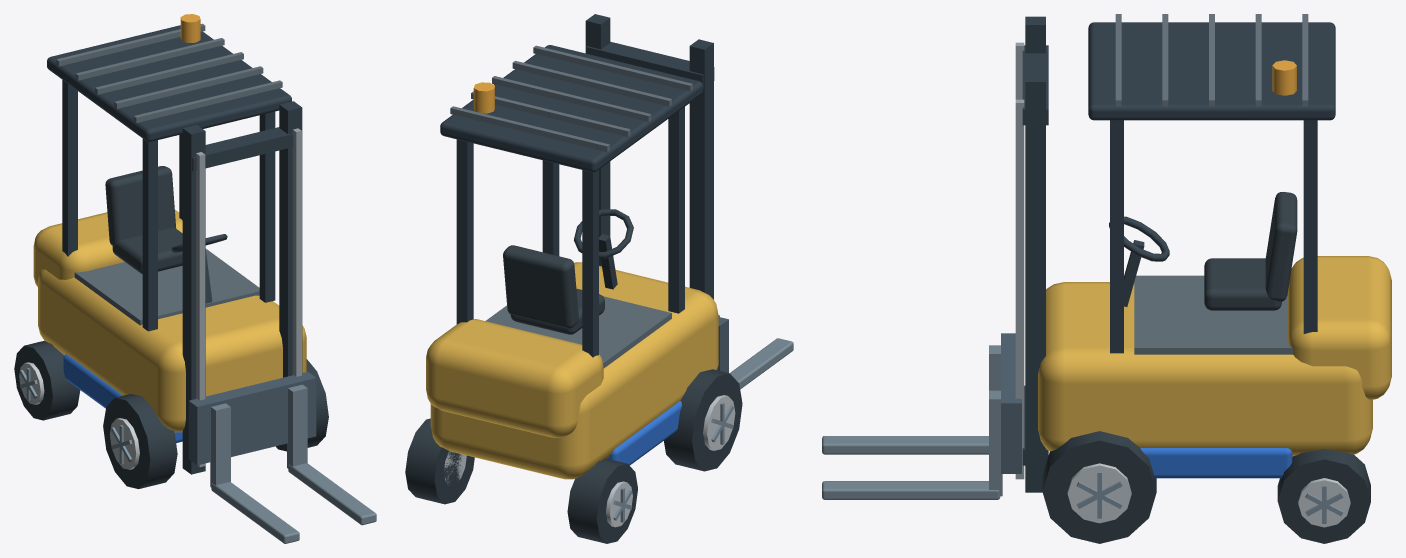
File: forklift-0-blue.glb
3 renders of one model, left to right at view 1: azimuth 30°, elevation 25°; view 2: azimuth 150°, elevation 25°; view 3: azimuth 270°, elevation 25°, orthographic. The views are drawn at different scales.
Visible parts, largest first — view 1: static-8--25, static-8--23, static-2--6, forklift-0, static-2--5, fork-carriage, static-8--19, wheel-front-left, static-2--3, wheel-rear-left, seat, wheel-front-right (+1 smaller); view 2: static-8--25, static-8--23, forklift-0, static-2--6, static-8--19, wheel-front-left, wheel-rear-left, wheel-rear-right, static-8--24, static-2--5, seat, fork-carriage; view 3: static-8--25, static-8--23, forklift-0, static-2--6, wheel-front-right, static-2--5, wheel-rear-right, static-2--3, seat, static-8--19, fork-carriage, static-8--24 (+1 smaller).
Part boxes in pixels (x1,y1,x2,y2): static-8--25: [33, 210, 306, 432]; static-8--23: [47, 25, 291, 331]; static-2--6: [182, 101, 302, 474]; forklift-0: [63, 14, 259, 442]; static-2--5: [210, 384, 376, 543]; fork-carriage: [188, 371, 316, 465]; static-8--19: [56, 23, 282, 123]; wheel-front-left: [103, 394, 177, 488]; static-2--3: [196, 128, 301, 467]; wheel-rear-left: [14, 340, 80, 420]; seat: [112, 227, 182, 273]; wheel-front-right: [276, 359, 328, 451]; static-8--25: [426, 262, 718, 479]; static-8--23: [440, 45, 702, 357]; forklift-0: [473, 82, 681, 465]; static-2--6: [585, 14, 714, 299]; static-8--19: [450, 45, 692, 151]; wheel-front-left: [664, 369, 742, 471]; wheel-rear-left: [567, 458, 637, 543]; wheel-rear-right: [405, 418, 474, 504]; static-8--24: [574, 209, 633, 289]; static-2--5: [718, 315, 793, 389]; seat: [510, 288, 604, 334]; fork-carriage: [717, 317, 728, 372]; static-8--25: [1038, 256, 1391, 456]; static-8--23: [1088, 22, 1335, 353]; forklift-0: [1134, 60, 1297, 478]; static-2--6: [1022, 16, 1048, 492]; wheel-front-right: [1042, 431, 1156, 543]; static-2--5: [822, 345, 1002, 499]; wheel-rear-right: [1277, 449, 1370, 543]; static-2--3: [1015, 42, 1024, 479]; seat: [1204, 258, 1281, 310]; static-8--19: [1115, 14, 1308, 106]; fork-carriage: [1001, 333, 1021, 473]; static-8--24: [1109, 216, 1169, 306].
Bounding box in the file's own units: 1.54 × 2.91 × 3.29.
